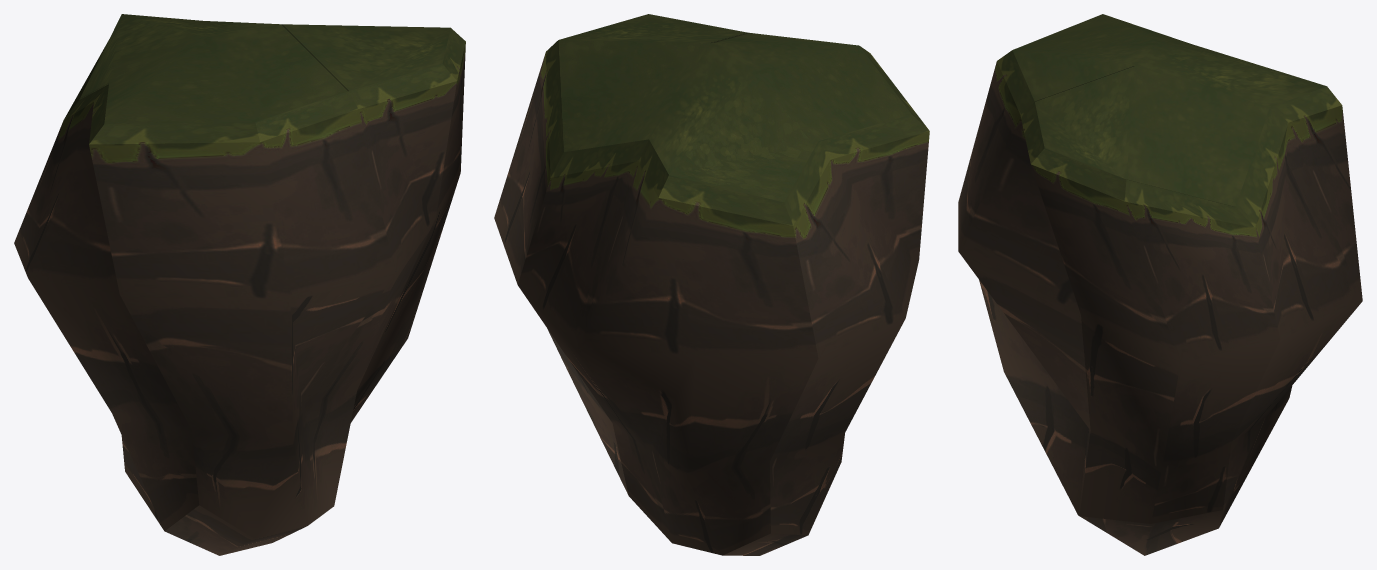
File: kleine_eiland.FBX
3 views of the same model, side by side, from view 1: azimuth 30°, elevation 25°; view 2: azimuth 150°, elevation 25°; view 3: azimuth 270°, elevation 25° (orthographic). The views are drawn at different scales.
Parts seen in each view (by area): view 1: Box258; view 2: Box258; view 3: Box258.
Boxes of the visible parts, x1,y1,x2,y2 form: Box258: (14, 14, 465, 555); Box258: (494, 14, 929, 555); Box258: (958, 14, 1362, 555).
Size of the model in its own units: 94.9 by 109 by 81.45.
